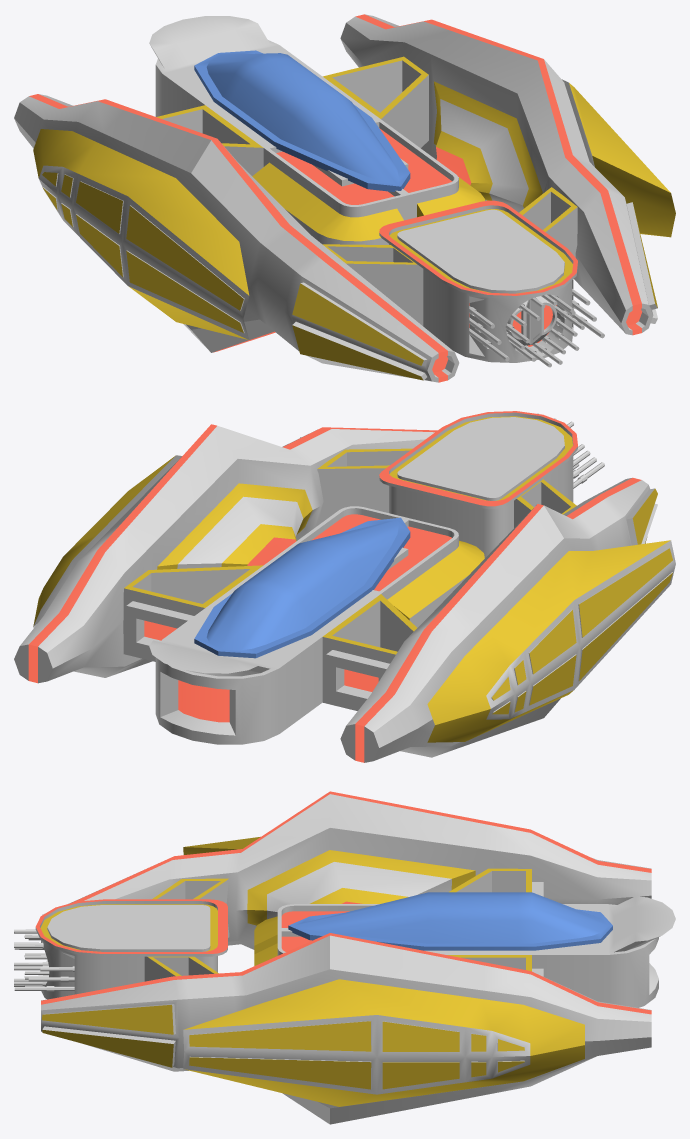
Rendered from StarShip_5.fbx.
3 renders of one model, top to bottom at view 1: azimuth 30°, elevation 25°; view 2: azimuth 150°, elevation 25°; view 3: azimuth 270°, elevation 25°, orthographic. The views are drawn at different scales.
Parts seen in each view (by area): view 1: StarShip_5; view 2: StarShip_5; view 3: StarShip_5.
Part boxes in pixels (left/top/right/bottom): StarShip_5: left=14, top=14, right=675, bottom=382; StarShip_5: left=14, top=411, right=675, bottom=762; StarShip_5: left=14, top=791, right=675, bottom=1124.
Bounding box in the file's own units: 1193 × 530 × 1683.
